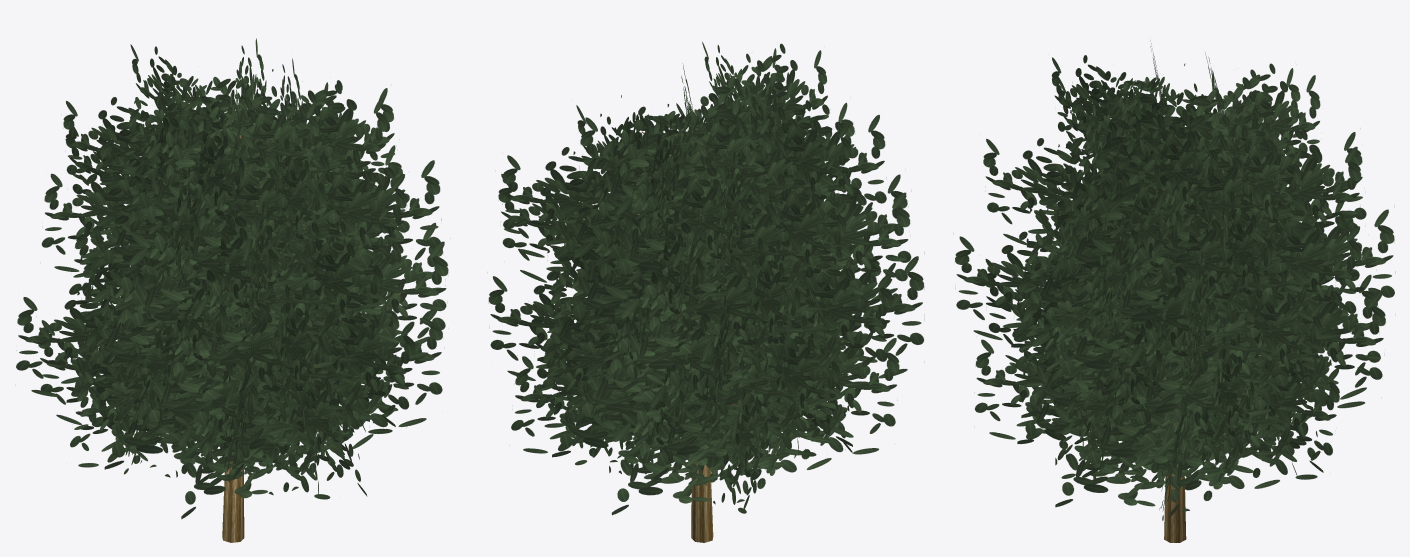
The model's file is tree.glb.
3 views of the same model, side by side, from view 1: azimuth 30°, elevation 25°; view 2: azimuth 150°, elevation 25°; view 3: azimuth 270°, elevation 25° (orthographic).
Visible parts, largest first — view 1: Canopy, Bark; view 2: Canopy, Bark; view 3: Canopy, Bark.
Part boxes in pixels (bbox=[...]): Canopy: bbox=[16, 38, 448, 519]; Bark: bbox=[154, 129, 305, 542]; Canopy: bbox=[488, 42, 924, 515]; Bark: bbox=[637, 128, 737, 542]; Canopy: bbox=[955, 41, 1395, 520]; Bark: bbox=[1124, 135, 1261, 542].
Size of the model in its own units: 6.61 by 7.86 by 6.63.
2 materials, 2 textured.
